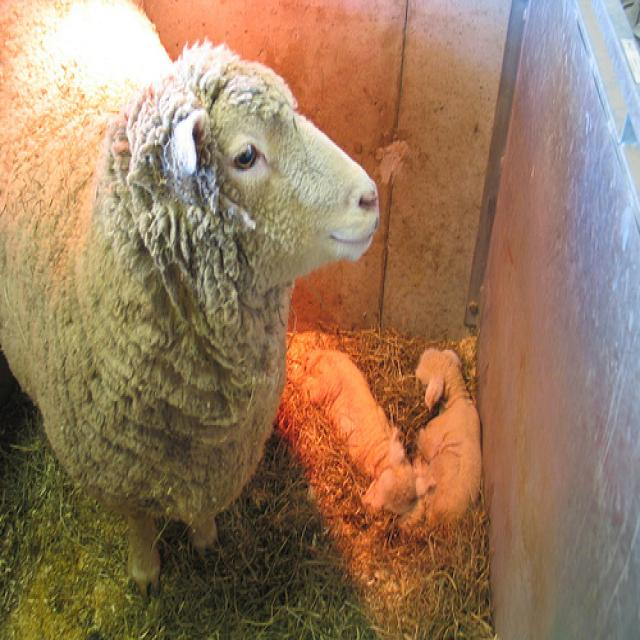sheep: (1, 1, 380, 595), (307, 351, 418, 516), (407, 346, 482, 527)
